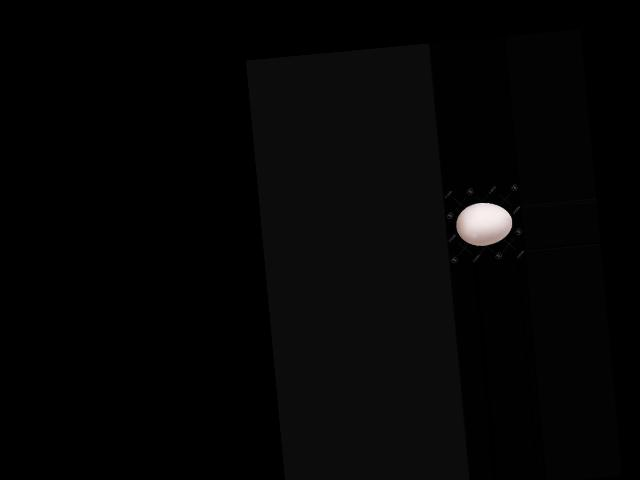egg: (454, 200, 513, 247)
